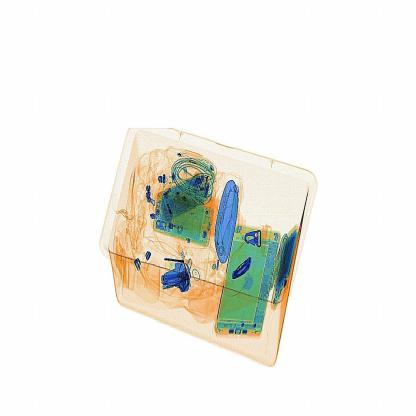knife: (227, 252, 262, 290)
